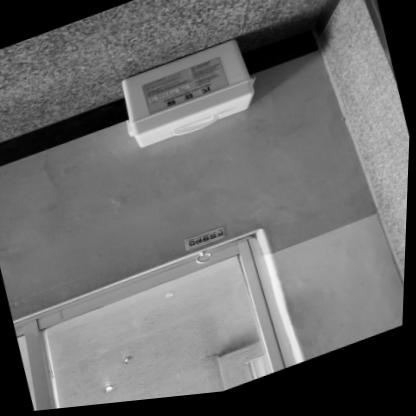DDL: (118, 35, 267, 154)
